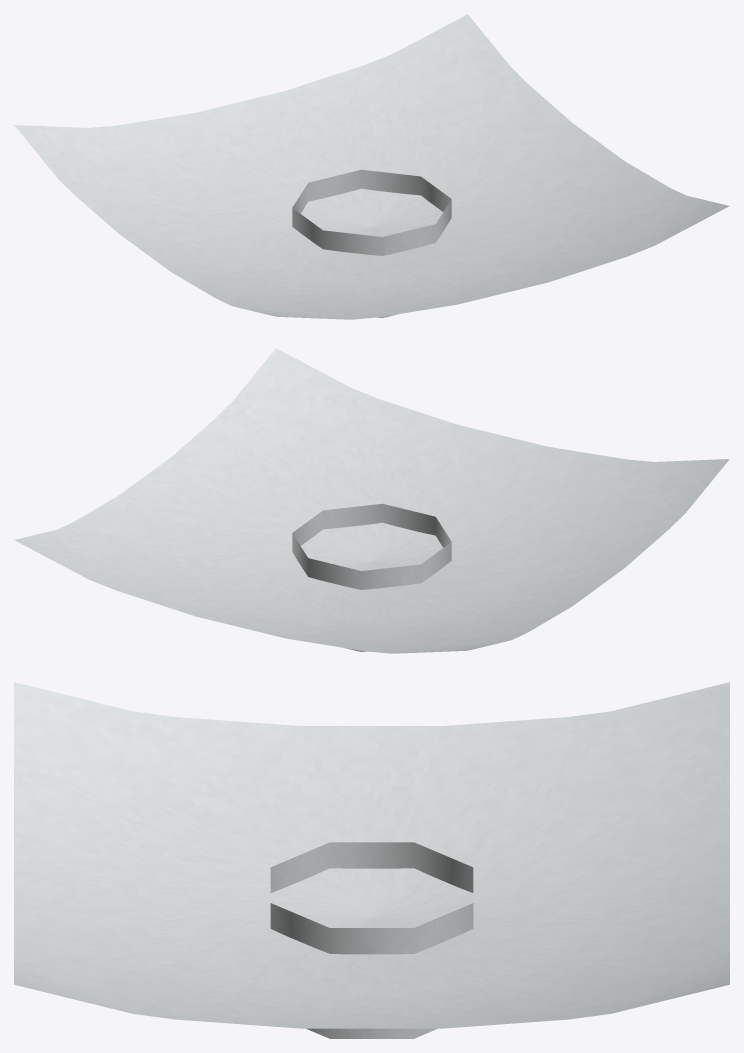
File: bowl_small_0_1_1.obj
3 renders of one model, top to bottom at view 1: azimuth 30°, elevation 25°; view 2: azimuth 150°, elevation 25°; view 3: azimuth 270°, elevation 25°, orthographic. The views are drawn at different scales.
Visible parts, largest first — view 1: bowl_small_0_1_1; view 2: bowl_small_0_1_1; view 3: bowl_small_0_1_1.
Part boxes in pixels (<box>): bowl_small_0_1_1: <box>14,14,729,319</box>; bowl_small_0_1_1: <box>14,348,729,653</box>; bowl_small_0_1_1: <box>14,682,729,1038</box>.
Bounding box in the file's own units: 3 × 0.7519 × 3.
